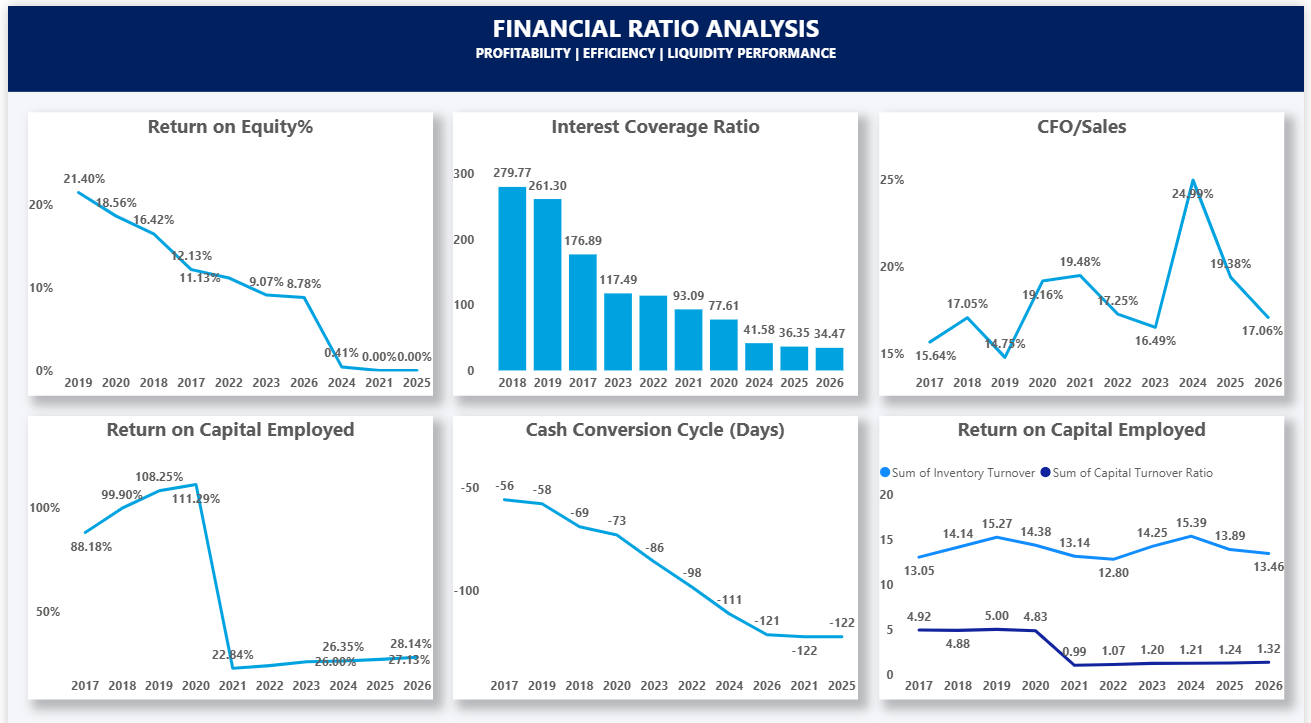

Layout of this report page (visuals, bound fields, positions):
{"tool":"powerbi","page":{"name":"Ratios","canvas":[1280,720],"ordinal":4},"visuals":[{"type":"lineChart","title":"Return on Equity%","fields":{"Category":["Ratio.Years"],"Y":["Sum(Ratio.Return on Equity%)"]},"box":[20,105,400,280],"z":0},{"type":"lineChart","title":"Return on Capital Employed","fields":{"Category":["Ratio.Years"],"Y":["Sum(Ratio.Return on Capital Employed)"]},"box":[20,405,400,280],"z":1000},{"type":"clusteredColumnChart","title":"Interest Coverage Ratio","fields":{"Category":["Ratio.Years"],"Y":["Sum(Ratio.Interest Coverage Ratio)"]},"box":[440,105,400,280],"z":2000},{"type":"lineChart","title":"CFO/Sales","fields":{"Category":["Ratio.Years"],"Y":["Sum(Ratio.CFO/Sales)"]},"box":[860,105,400,280],"z":3000},{"type":"lineChart","title":"Return on Capital Employed","fields":{"Category":["Ratio.Years"],"Y":["Sum(Ratio.Inventory Turnover)","Sum(Ratio.Capital Turnover Ratio)"]},"box":[860,405,400,280],"z":4000},{"type":"lineChart","title":"Cash Conversion Cycle (Days)","fields":{"Y":["Sum(Ratio.Cash Conversion Cycle (in days))"],"Category":["Ratio.Years"]},"box":[440,405,400,280],"z":5000},{"type":"textbox","box":[0,0,1280,85],"z":6000}]}

Visuals, with their boxes in screenshot pixels (x1, y1, x2, y2), scaled from the page's 1280x720 canvas onto the 1311x723 screenshot:
"Return on Equity%" lineChart: {"x1": 20, "y1": 105, "x2": 430, "y2": 387}
"Return on Capital Employed" lineChart: {"x1": 20, "y1": 407, "x2": 430, "y2": 688}
"Interest Coverage Ratio" clusteredColumnChart: {"x1": 451, "y1": 105, "x2": 860, "y2": 387}
"CFO/Sales" lineChart: {"x1": 881, "y1": 105, "x2": 1291, "y2": 387}
"Return on Capital Employed" lineChart: {"x1": 881, "y1": 407, "x2": 1291, "y2": 688}
"Cash Conversion Cycle (Days)" lineChart: {"x1": 451, "y1": 407, "x2": 860, "y2": 688}
textbox: {"x1": 0, "y1": 0, "x2": 1310, "y2": 85}
